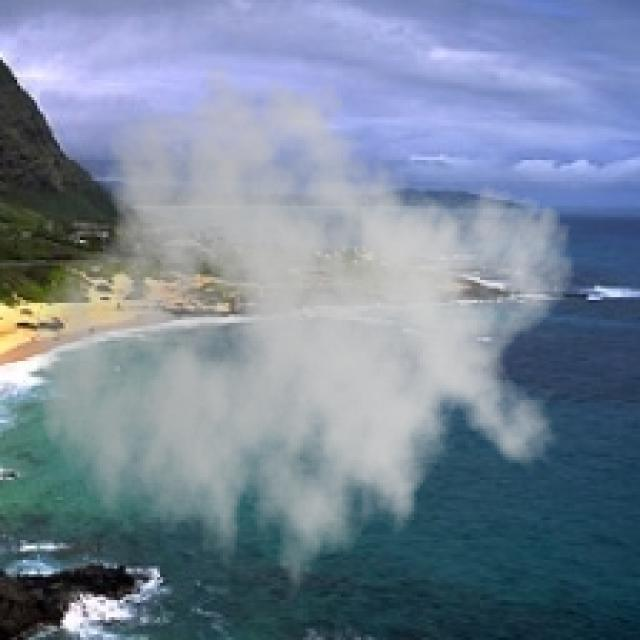Smoke: (31, 48, 578, 618)
